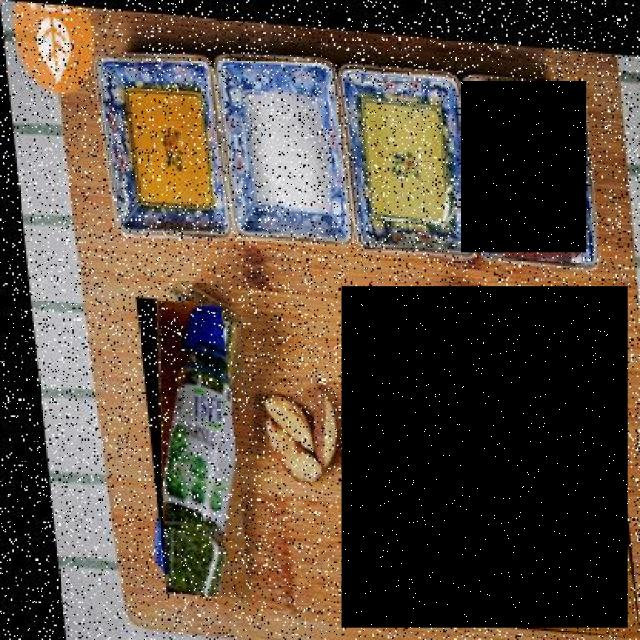Ketchup: (461, 80, 587, 252)
Sausage: (342, 286, 628, 628)
